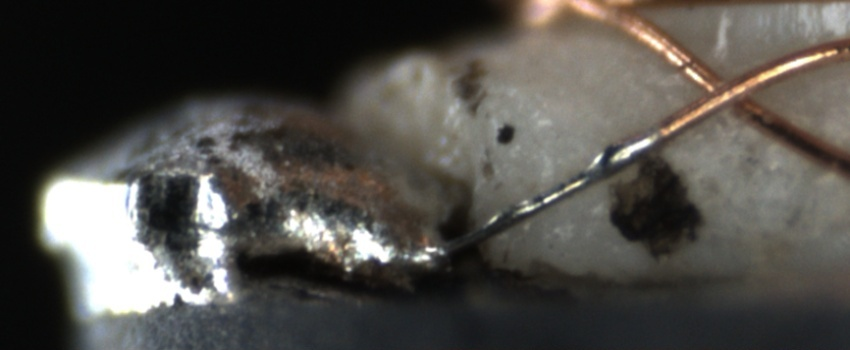CL: (682, 53, 777, 124)
TS: (452, 127, 662, 250)
TTCW: (443, 102, 701, 248)
